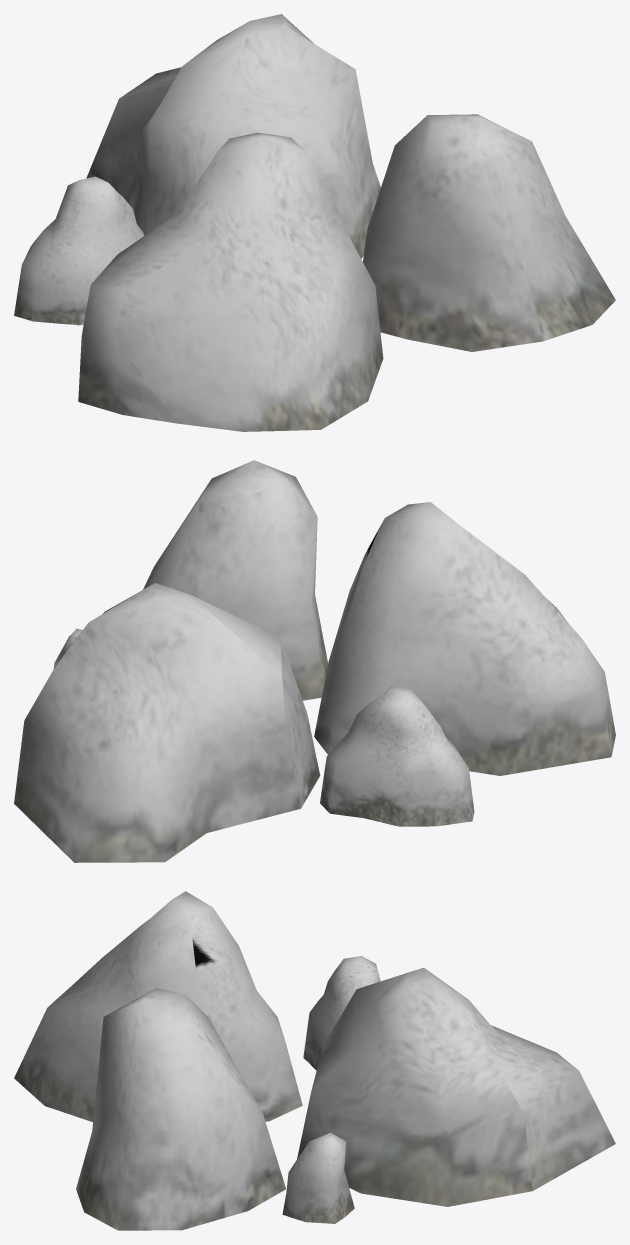
Rendered from shrine_rock_02.fbx.
3 views of the same model, one above another, from view 1: azimuth 30°, elevation 25°; view 2: azimuth 150°, elevation 25°; view 3: azimuth 270°, elevation 25° (orthographic). The views are drawn at different scales.
Parts seen in each view (by area): view 1: Shrine_rock_02; view 2: Shrine_rock_02; view 3: Shrine_rock_02.
Part boxes in pixels (x1,y1,x2,y2): Shrine_rock_02: (14, 14, 615, 431); Shrine_rock_02: (14, 460, 615, 862); Shrine_rock_02: (14, 891, 615, 1230).
Bounding box in the file's own units: 4.46 × 1.84 × 5.18.
